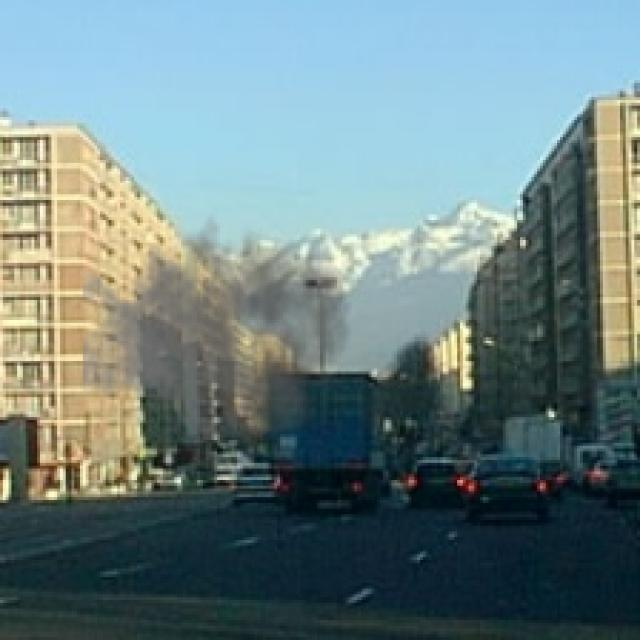Smoke: (82, 202, 352, 458)
